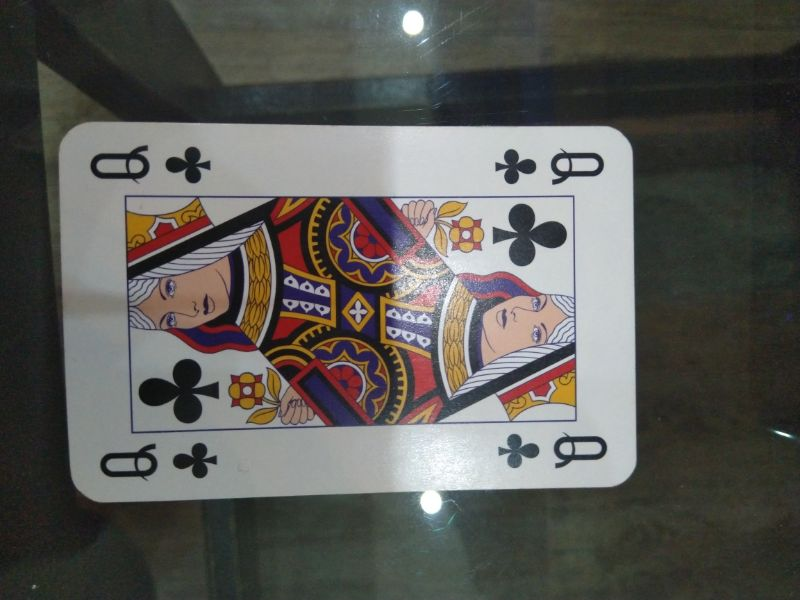Qc: (87, 140, 217, 192), (490, 141, 611, 192), (493, 426, 614, 474), (97, 439, 222, 485)
